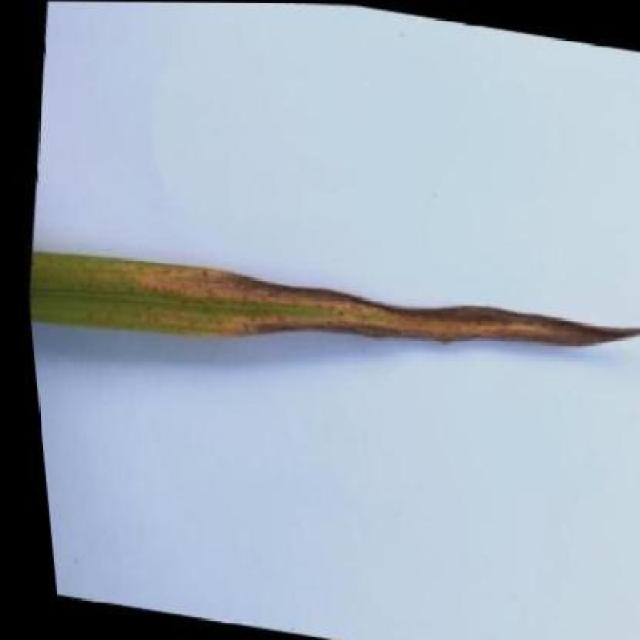Rice False Smut: (17, 223, 640, 422)
